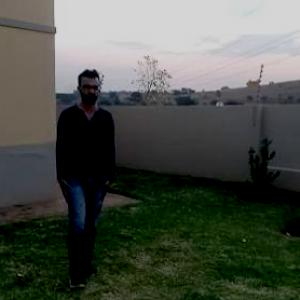follow: (52, 71, 114, 255)
